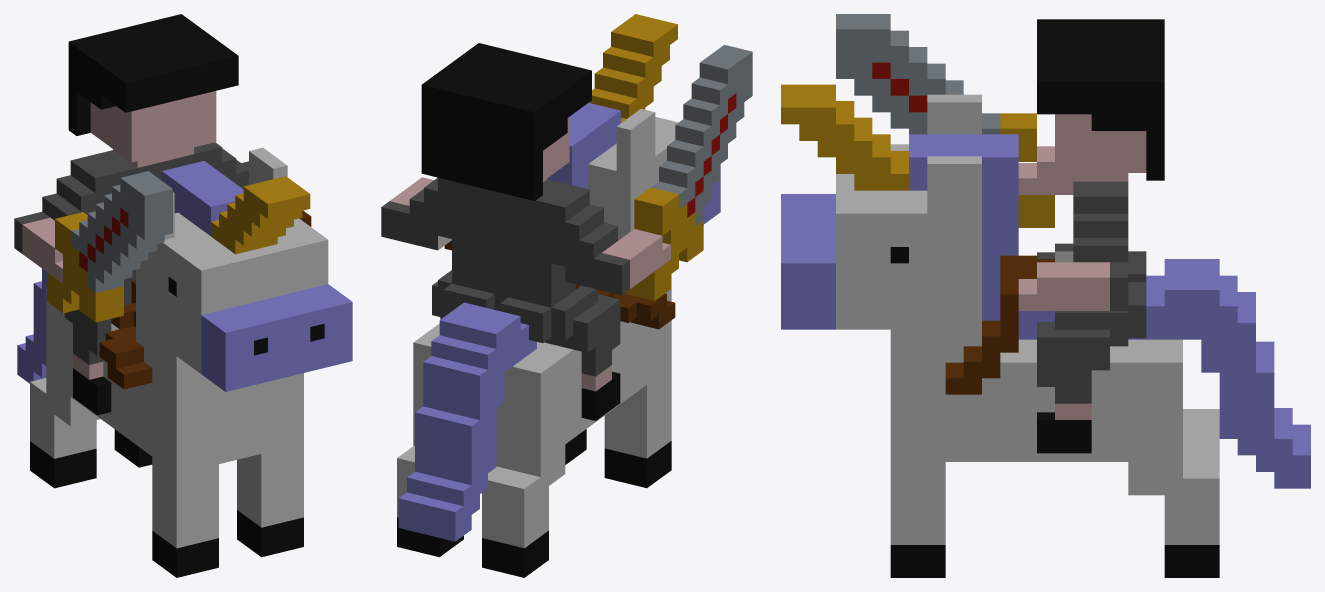
The model's file is Unicorn Mesh.fbx.
3 renders of one model, left to right at view 1: azimuth 30°, elevation 25°; view 2: azimuth 150°, elevation 25°; view 3: azimuth 270°, elevation 25°, orthographic. The views are drawn at different scales.
Parts seen in each view (by area): view 1: Untitled; view 2: Untitled; view 3: Untitled.
Boxes of the visible parts, box(x1,y1,x2,y2) form: Untitled: box(14, 14, 352, 577); Untitled: box(381, 14, 752, 577); Untitled: box(781, 14, 1310, 577).
Bounding box in the file's own units: 170 × 300 × 290.
